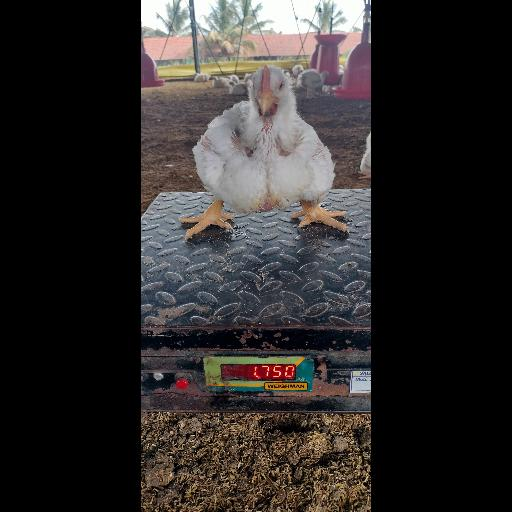chick: (186, 65, 352, 236)
